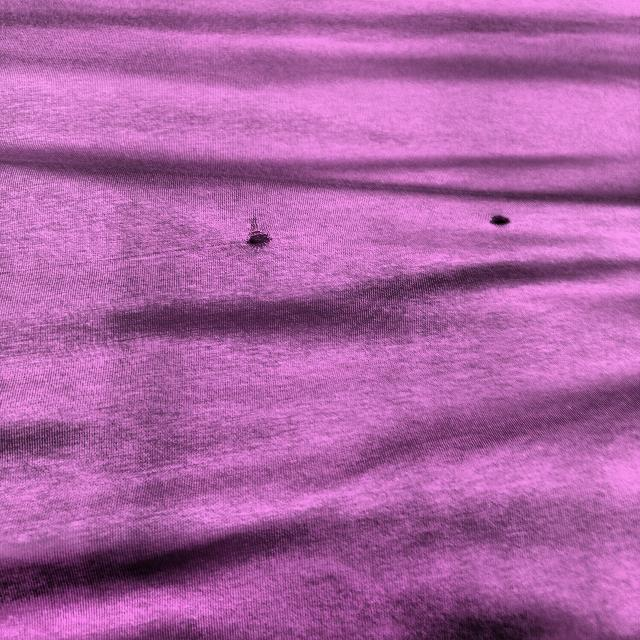Hole: (231, 211, 283, 257), (482, 210, 517, 231)
